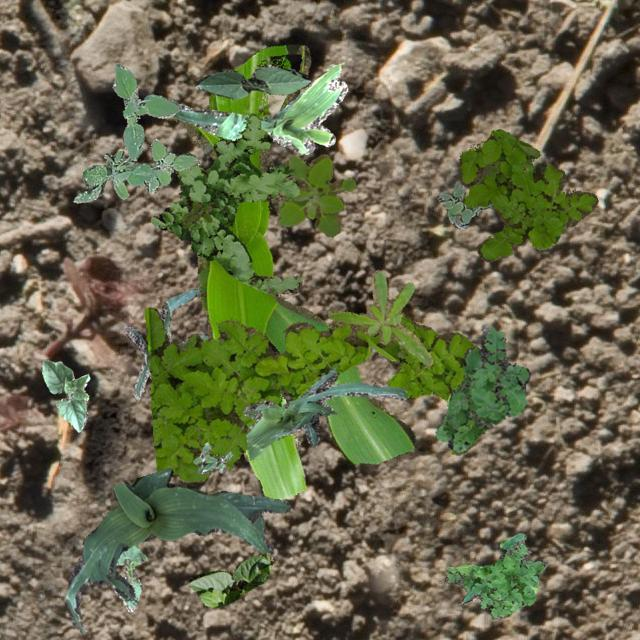crop: (179, 44, 415, 498), (64, 467, 290, 632), (172, 63, 346, 154), (243, 366, 407, 459), (122, 288, 208, 400), (188, 552, 272, 606), (196, 64, 310, 98), (41, 358, 88, 431), (116, 542, 146, 610)
weed: (144, 306, 476, 482), (150, 112, 300, 294), (458, 127, 596, 260), (73, 62, 198, 202), (434, 324, 530, 450), (328, 268, 432, 364), (444, 532, 546, 618), (270, 154, 354, 236), (436, 180, 492, 228), (192, 440, 232, 472), (182, 200, 210, 227)
